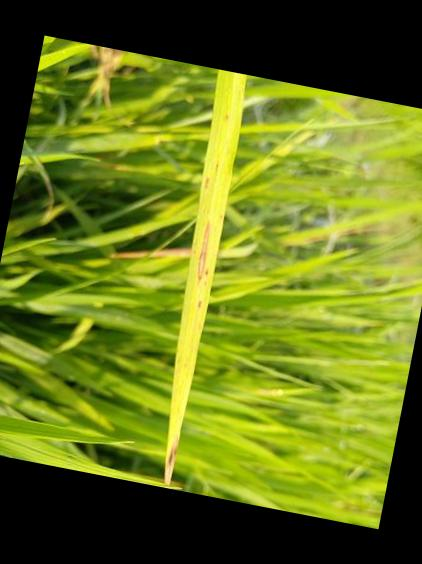Leaf Streak: (197, 219, 211, 278), (162, 435, 176, 489), (199, 174, 210, 206), (192, 297, 202, 306)
